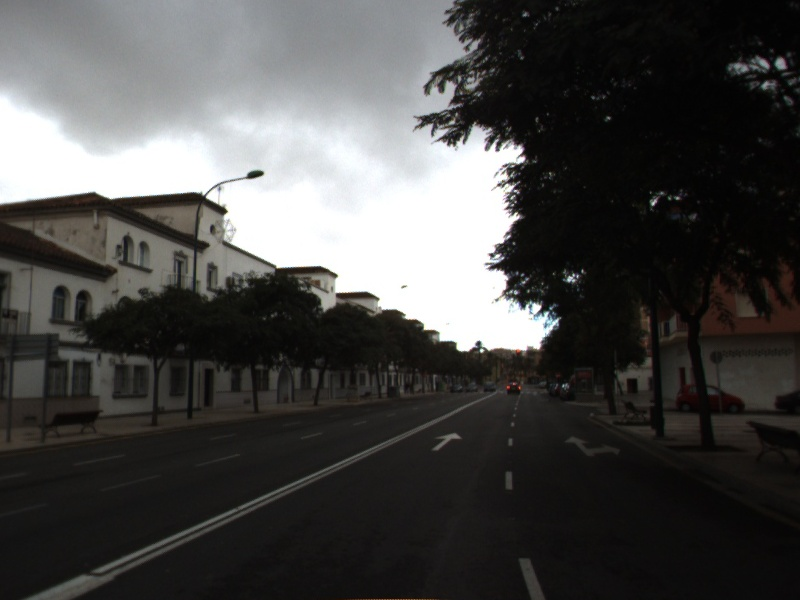STRAIGHT: (430, 431, 464, 452)
STRAIGHT_RIGHT: (563, 434, 622, 457)
